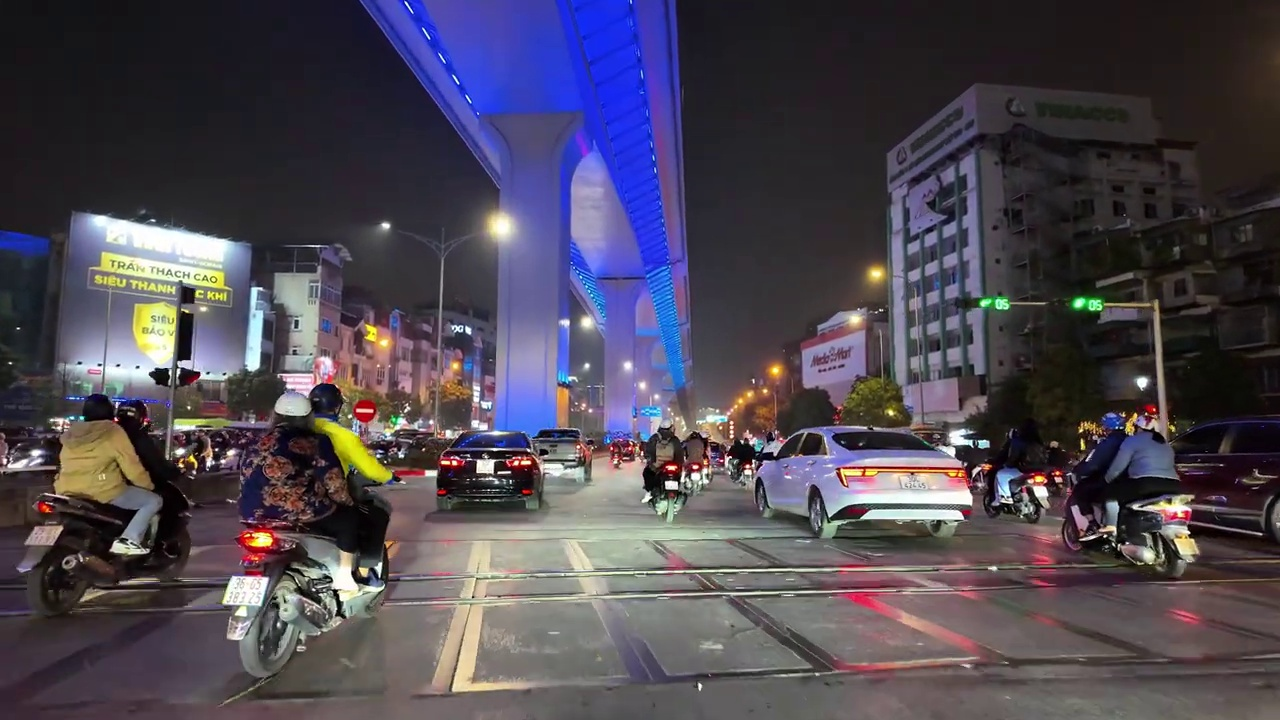acesa: (482, 210, 514, 243), (862, 261, 889, 289), (370, 218, 395, 241), (765, 360, 786, 381)
